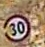limite 30: (3, 12, 31, 42)
